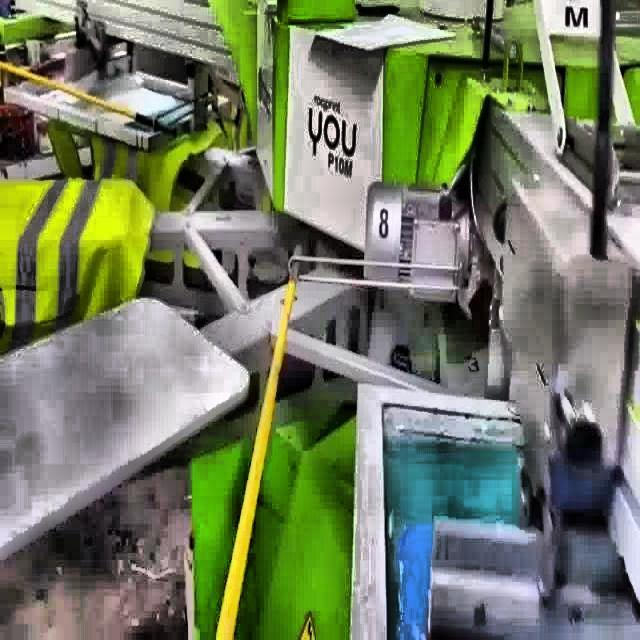safety_jacket: (2, 180, 158, 343)
